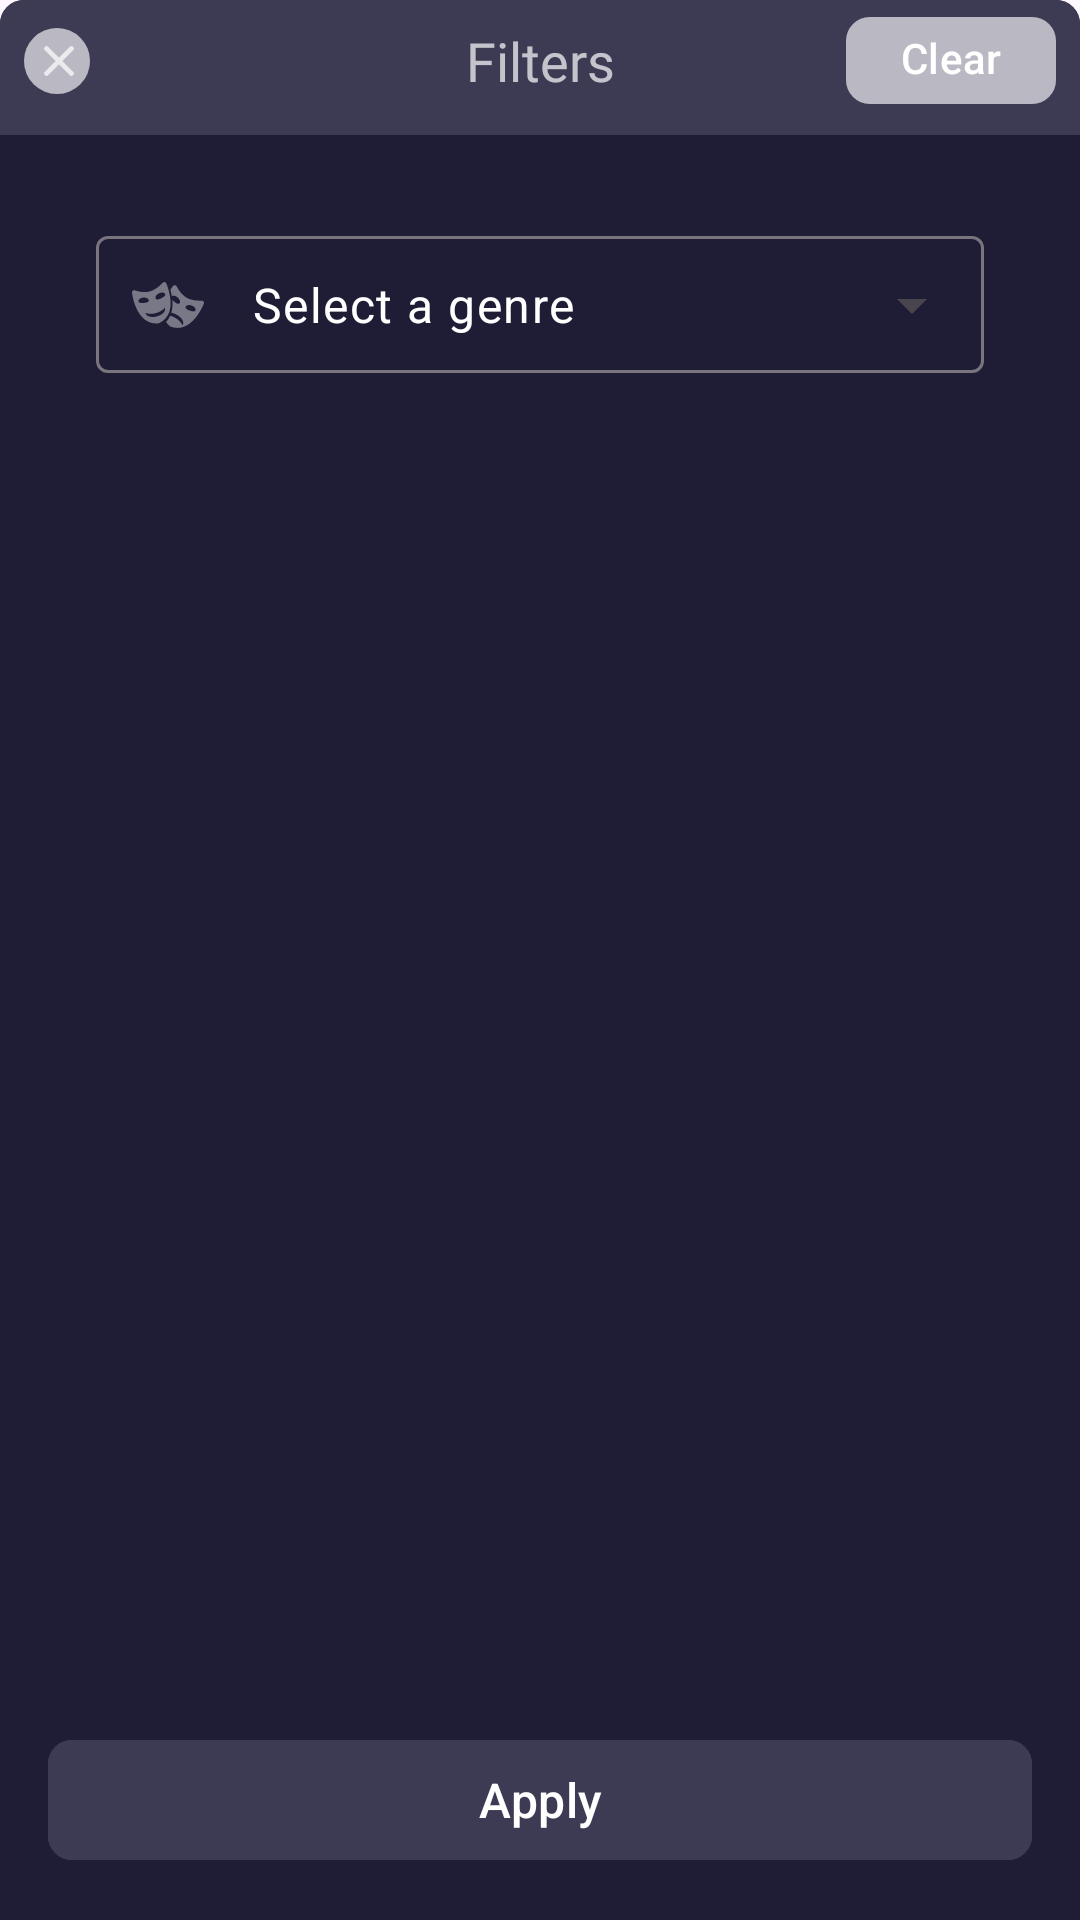

Screen size 1080*1920. Icon name, then its box in pixels as rect(x1, y1, x2, y2):
cancel: rect(24, 28, 90, 94)
